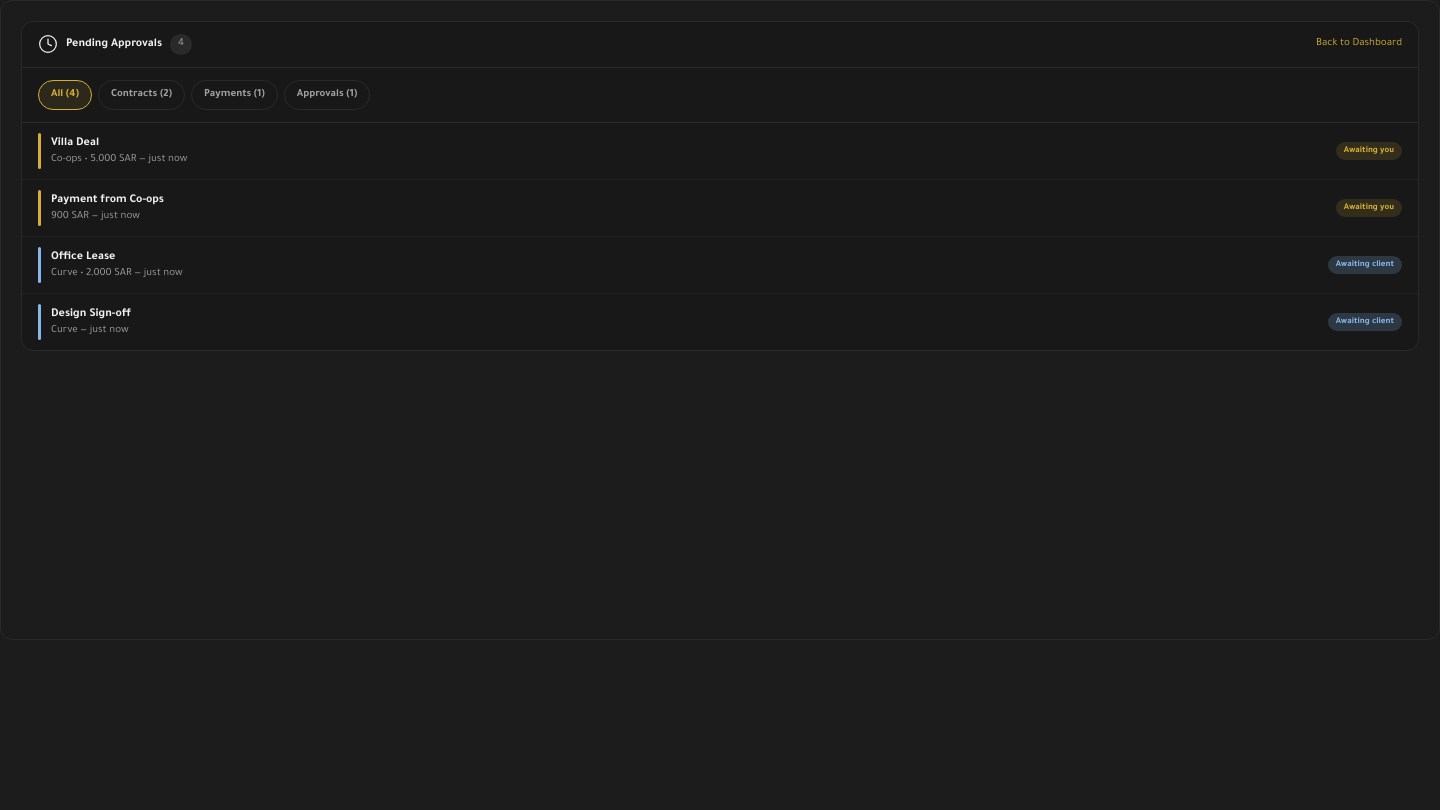
Test case: PendingApprovalsListView › filters the list down to one item type when a filter pill is clicked
Check: the text "Villa Deal" is shown, box [51, 137, 99, 149]
Click the button "Approvals (1)" at (327, 95), box [284, 80, 370, 110]
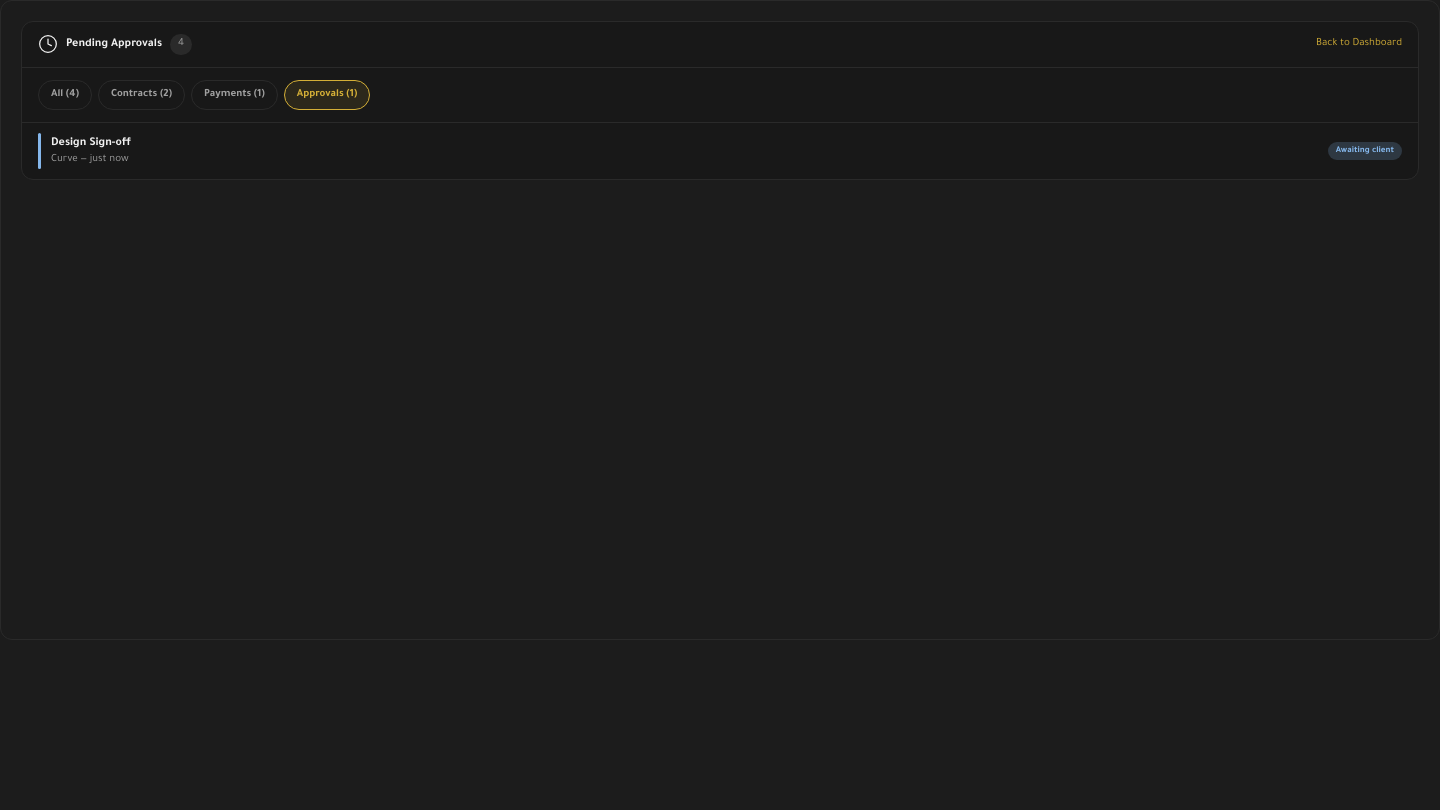
Check: the link "Villa Deal" is gone
Check: the link "Office Lease" is gone
Check: the link "Payment from Co-ops" is gone
